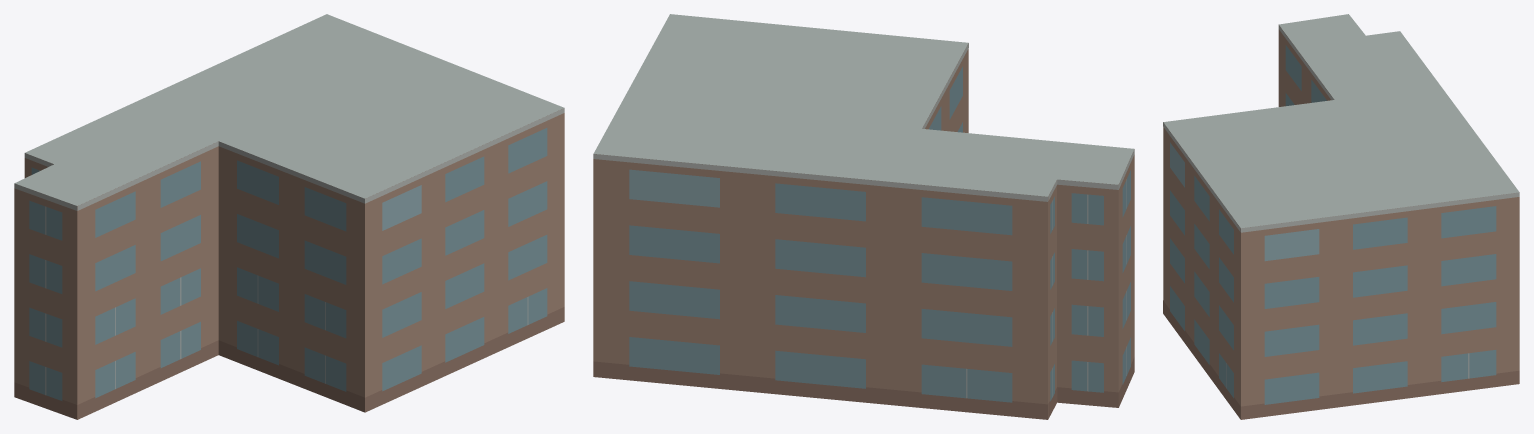
File: survey-upis-32568707.glb
3 renders of one model, left to right at view 1: azimuth 30°, elevation 25°; view 2: azimuth 150°, elevation 25°; view 3: azimuth 270°, elevation 25°, orthographic. The views are drawn at different scales.
Visible parts, largest first — view 1: survey-upis-32568707.tmp; view 2: survey-upis-32568707.tmp; view 3: survey-upis-32568707.tmp.
Part boxes in pixels (bbox=[...]): survey-upis-32568707.tmp: bbox=[14, 14, 564, 419]; survey-upis-32568707.tmp: bbox=[593, 14, 1134, 419]; survey-upis-32568707.tmp: bbox=[1163, 14, 1519, 419].
Size of the model in its own units: 25.2 by 10.5 by 17.71.
